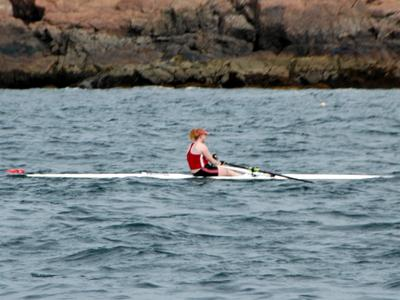person: (185, 127, 251, 179)
